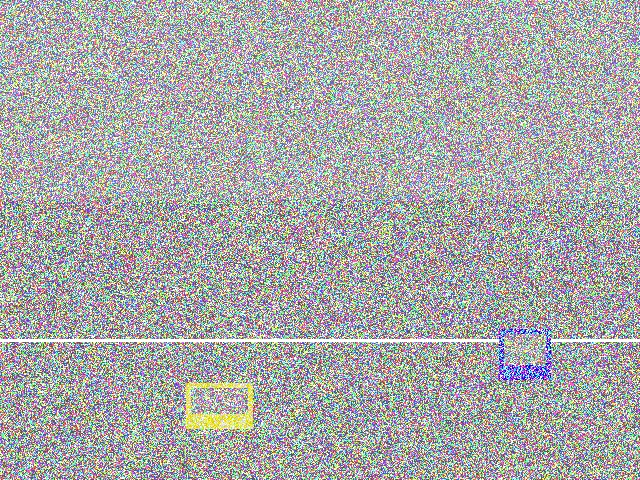bus: (370, 294, 434, 354)
